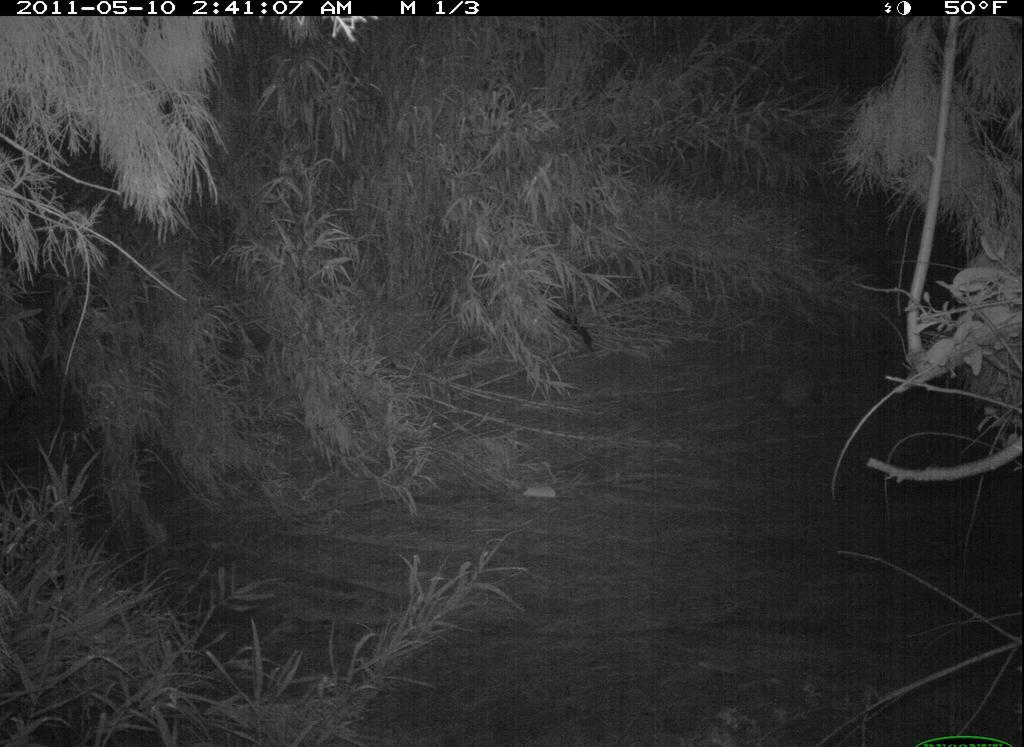opossum: (767, 356, 833, 428)
